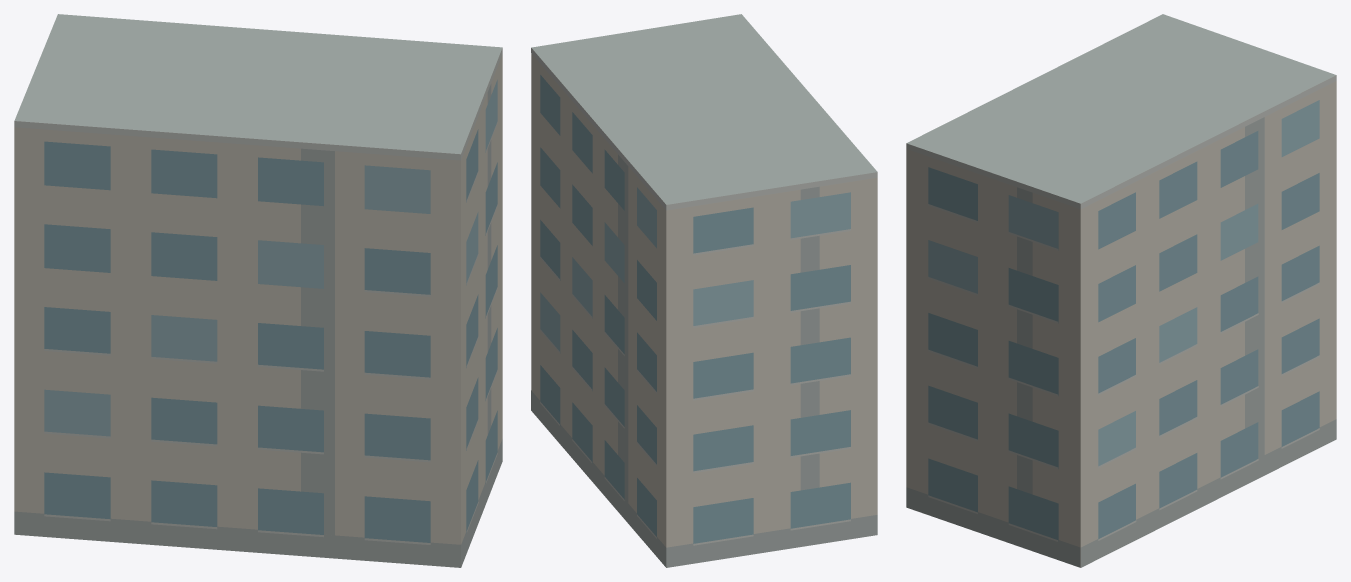
The model's file is survey-upis-33046740.glb.
3 renders of one model, left to right at view 1: azimuth 30°, elevation 25°; view 2: azimuth 150°, elevation 25°; view 3: azimuth 270°, elevation 25°, orthographic. The views are drawn at different scales.
Visible parts, largest first — view 1: survey-upis-33046740.tmp; view 2: survey-upis-33046740.tmp; view 3: survey-upis-33046740.tmp.
Part boxes in pixels (left/top/right/bottom): survey-upis-33046740.tmp: left=14, top=14, right=502, bottom=567; survey-upis-33046740.tmp: left=531, top=14, right=877, bottom=567; survey-upis-33046740.tmp: left=906, top=14, right=1336, bottom=567.
Bounding box in the file's own units: 17.77 × 15.9 × 17.04.
